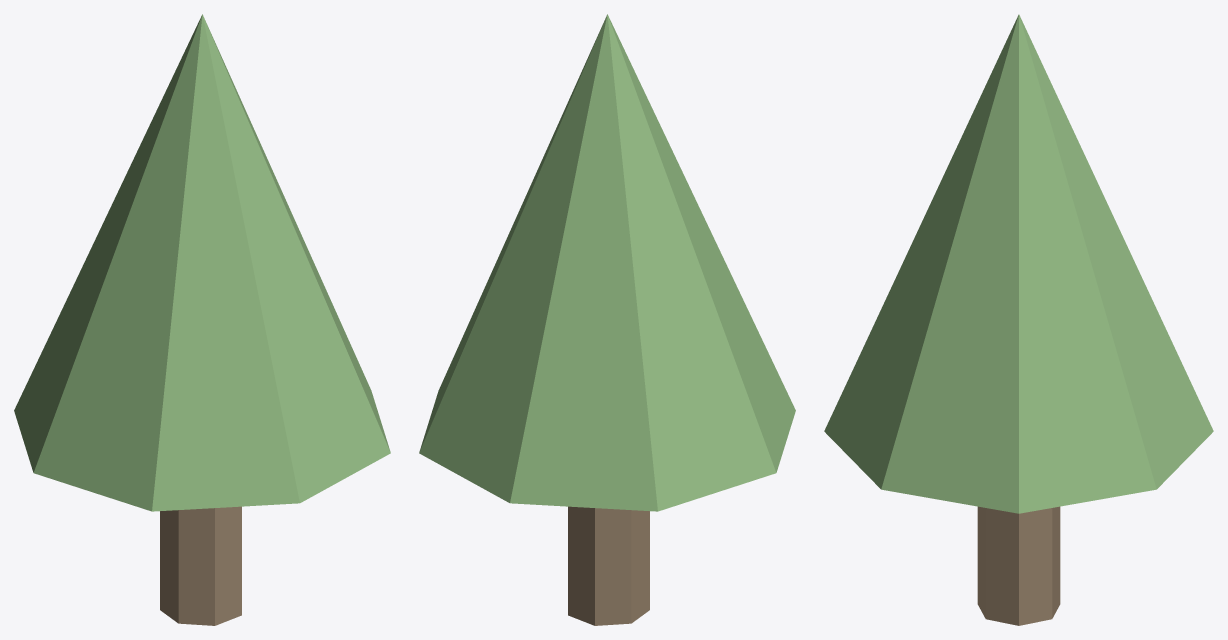
Rendered from spike-tree.glb.
3 renders of one model, left to right at view 1: azimuth 30°, elevation 25°; view 2: azimuth 150°, elevation 25°; view 3: azimuth 270°, elevation 25°, orthographic.
Visible parts, largest first — view 1: canopy, trunk; view 2: canopy, trunk; view 3: canopy, trunk.
Boxes of the visible parts, x1=… form: canopy: x1=14, y1=14, x2=390, y2=511; trunk: x1=160, y1=506, x2=241, y2=625; canopy: x1=419, y1=14, x2=795, y2=511; trunk: x1=568, y1=506, x2=649, y2=625; canopy: x1=824, y1=14, x2=1213, y2=513; trunk: x1=977, y1=506, x2=1060, y2=625.
Size of the model in its own units: 1.1 by 1.85 by 1.1.
